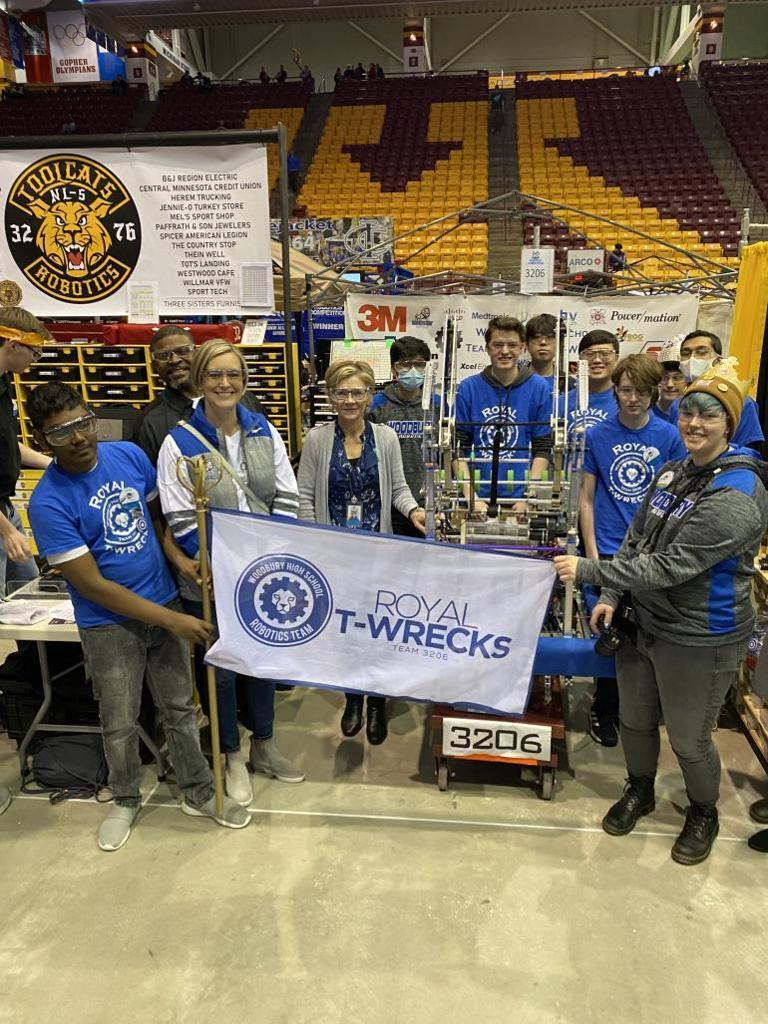robot: (417, 299, 630, 693)
